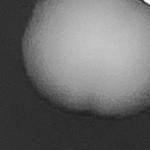colony: (16, 0, 150, 126)
